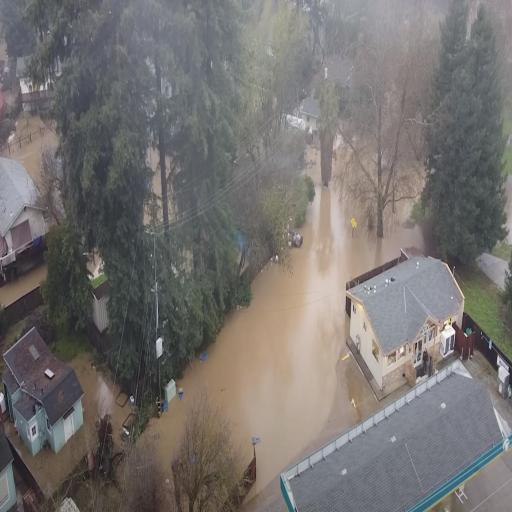flood: (147, 147, 425, 510), (4, 351, 130, 498), (8, 130, 57, 181), (0, 262, 46, 306), (17, 112, 43, 131), (507, 173, 512, 243)
house: (279, 358, 512, 512), (343, 248, 468, 404), (3, 324, 85, 456), (0, 154, 50, 287), (300, 94, 322, 150)
